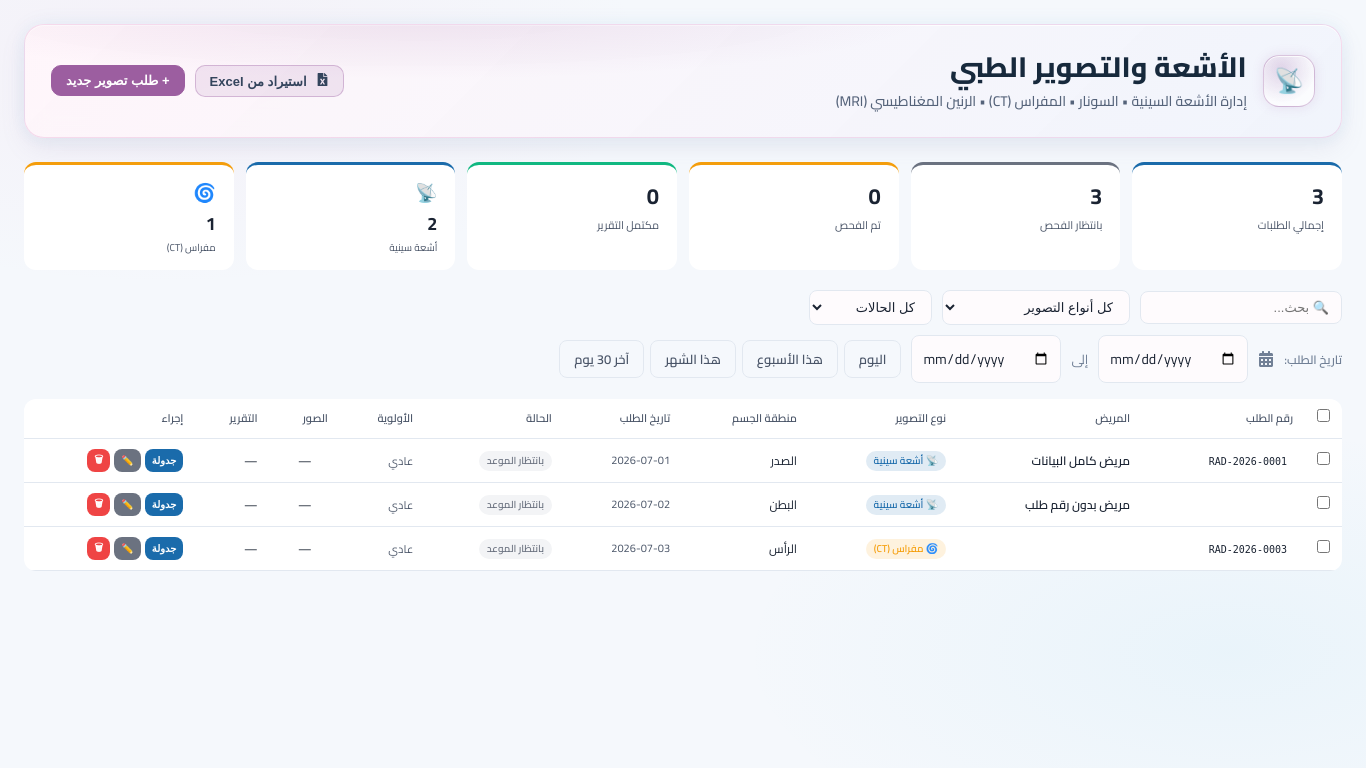
RadiologyPage — search crash guard › searching by reqNo still matches records that do have one
Step 1. Type "rad-2026-0003" into the field with placeholder "🔍 بحث..." → {"x": 1241, "y": 308}, box top-left (1140, 291), bottom-right (1342, 324)
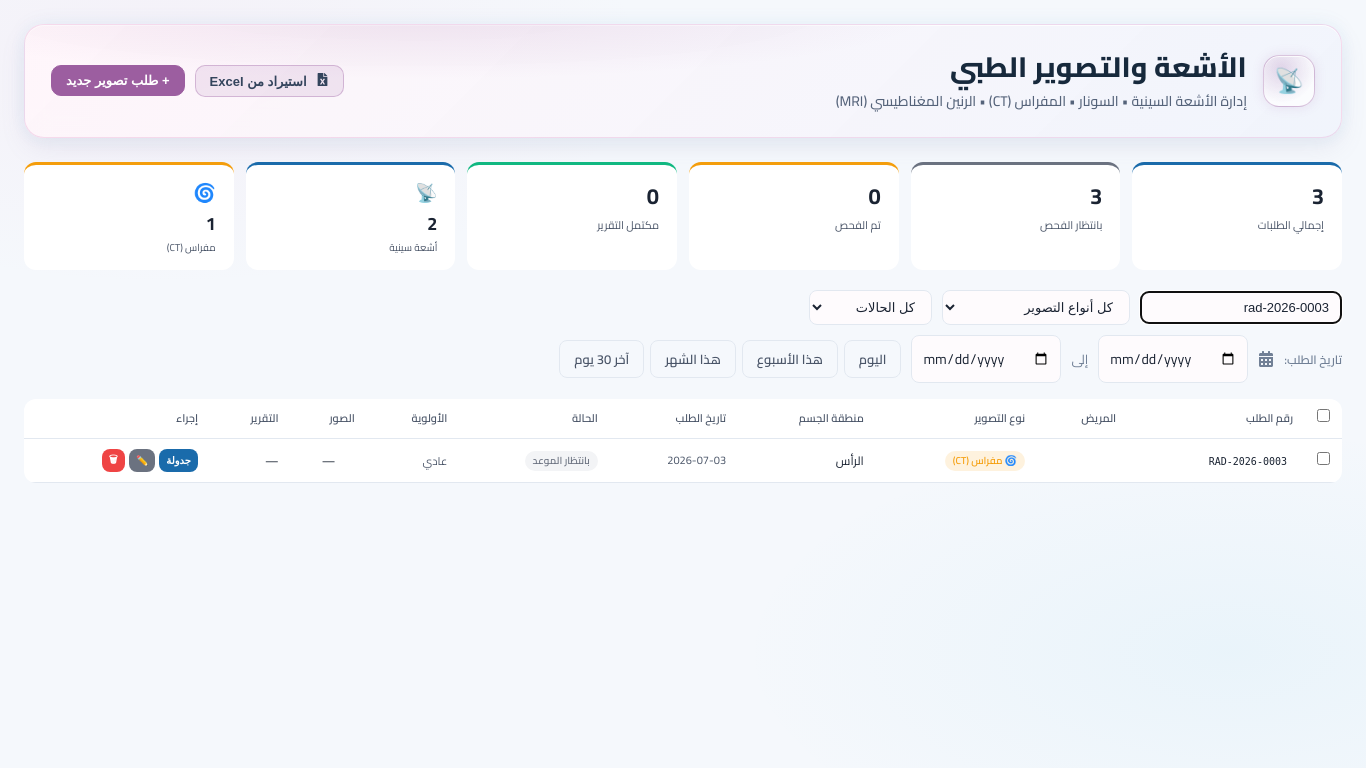
Check: the text "RAD-2026-0003" is shown, box top-left (1203, 454), bottom-right (1293, 469)
Check: the text "مريض كامل البيانات" is gone
